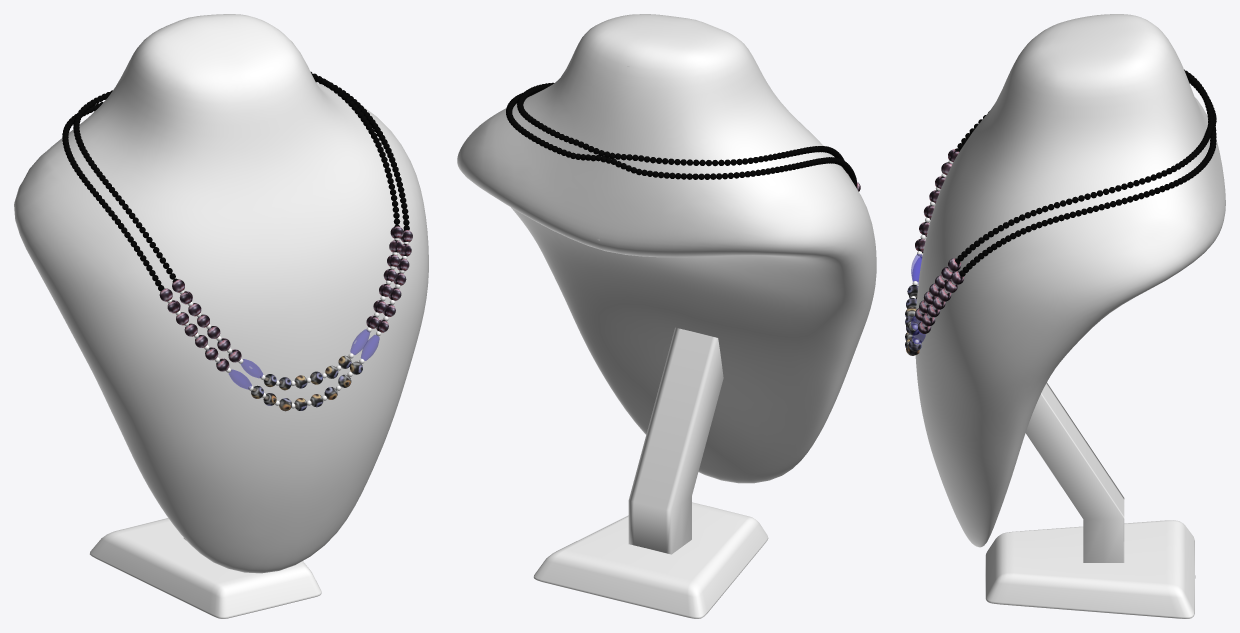
The model's file is double_layer_collar_bone_necklace.glb.
The picture shows the model from 3 angles, left to right: view 1: azimuth 30°, elevation 25°; view 2: azimuth 150°, elevation 25°; view 3: azimuth 270°, elevation 25°; orthographic projection. The views are drawn at different scales.
Visible parts, largest first — view 1: polySurface1, polySurface2, polySurface9, polySurface7; view 2: polySurface1, polySurface2, polySurface3, polySurface7, polySurface9; view 3: polySurface1, polySurface2, polySurface3, polySurface9, polySurface7.
Part boxes in pixels (<box>): polySurface1: <box>14,14,428,573</box>; polySurface2: <box>89,518,321,618</box>; polySurface9: <box>73,72,400,282</box>; polySurface7: <box>62,78,409,291</box>; polySurface1: <box>457,14,876,483</box>; polySurface2: <box>533,502,768,618</box>; polySurface3: <box>628,327,723,554</box>; polySurface7: <box>506,91,857,186</box>; polySurface9: <box>517,82,847,173</box>; polySurface1: <box>915,14,1225,547</box>; polySurface2: <box>985,520,1195,618</box>; polySurface3: <box>1025,382,1124,562</box>; polySurface9: <box>955,69,1214,263</box>; polySurface7: <box>959,79,1216,276</box>.
Bounding box in the file's own units: 135 × 184 × 98.66.
6 materials, 3 textured.
